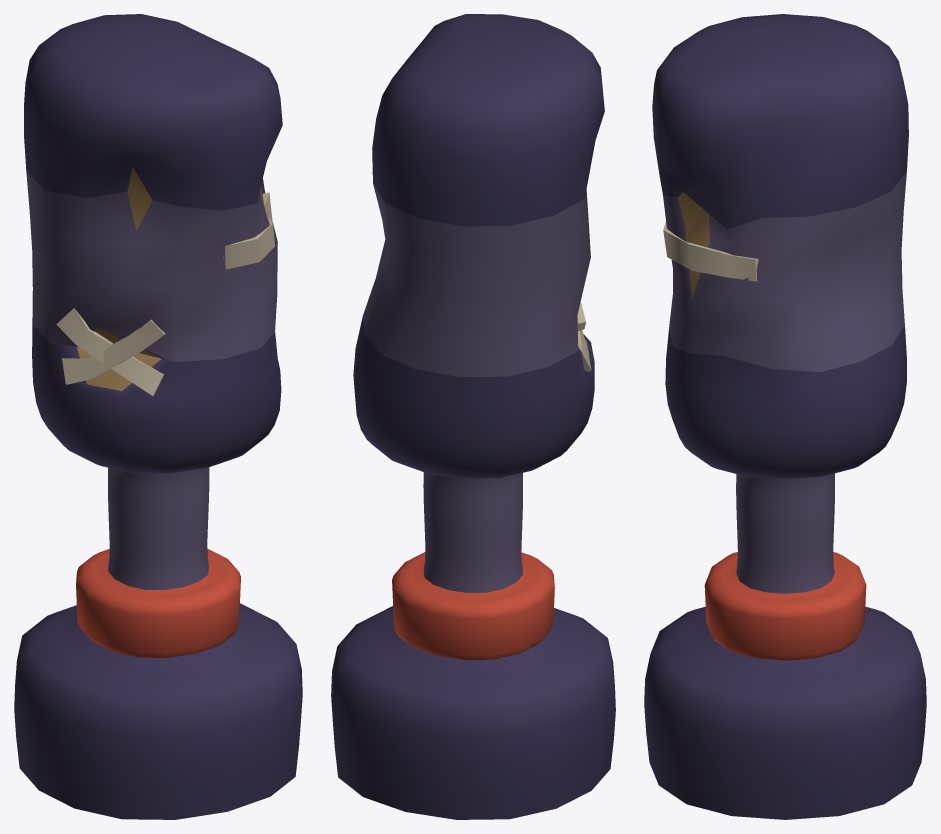
File: boxing_mannequin-3.fbx
3 renders of one model, left to right at view 1: azimuth 30°, elevation 25°; view 2: azimuth 150°, elevation 25°; view 3: azimuth 270°, elevation 25°, orthographic.
Visible parts, largest first — view 1: boxing mannequin-3; view 2: boxing mannequin-3; view 3: boxing mannequin-3.
Boxes of the visible parts, bbox=[...] form: boxing mannequin-3: bbox=[14, 14, 302, 819]; boxing mannequin-3: bbox=[331, 14, 615, 819]; boxing mannequin-3: bbox=[644, 14, 926, 819].
Bounding box in the file's own units: 0.3466 × 0.967 × 0.3466.
